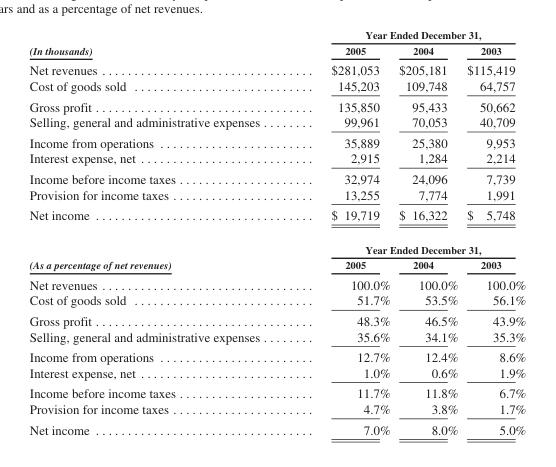table: (28, 28, 525, 436)
table column: (28, 28, 294, 436), (294, 28, 394, 436), (394, 28, 461, 436), (461, 28, 525, 436)
table column header: (28, 28, 525, 59)
table row: (28, 204, 525, 232), (28, 232, 525, 256), (28, 95, 525, 114), (28, 273, 525, 292), (28, 59, 525, 77), (28, 77, 525, 95), (28, 114, 525, 132), (28, 132, 525, 150), (28, 150, 525, 168), (28, 168, 525, 186), (28, 186, 525, 204), (28, 292, 525, 310), (28, 310, 525, 328), (28, 328, 525, 346), (28, 346, 525, 364), (28, 364, 525, 382), (28, 382, 525, 400), (28, 400, 525, 418), (28, 418, 525, 436), (28, 42, 525, 59), (28, 256, 525, 273), (28, 28, 525, 42)
table spanning cell: (28, 28, 294, 59), (294, 232, 525, 256), (294, 28, 525, 42)
